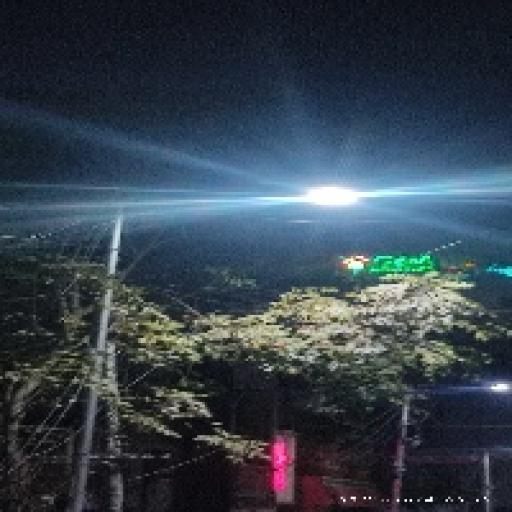Working: (296, 179, 369, 216)
